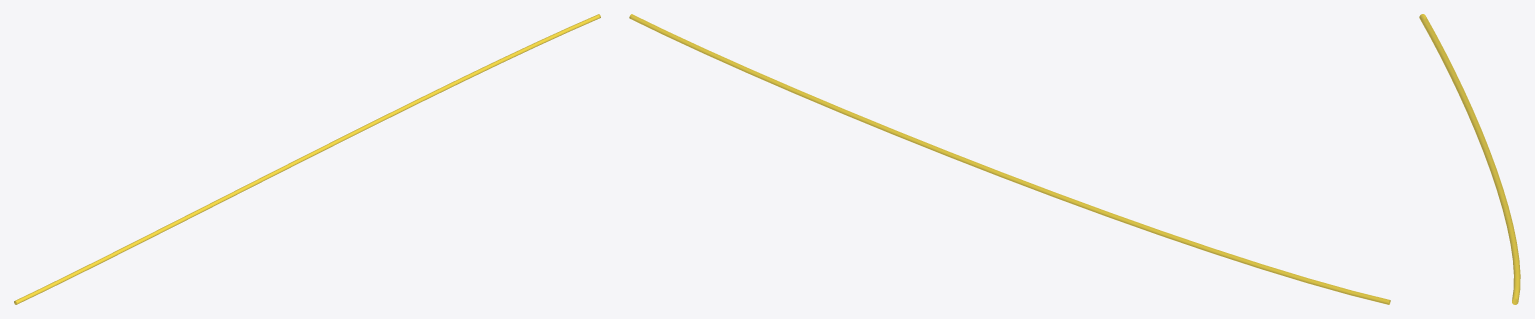
The model's file is Event_75125125_track_64.fbx.
The picture shows the model from 3 angles, left to right: view 1: azimuth 30°, elevation 25°; view 2: azimuth 150°, elevation 25°; view 3: azimuth 270°, elevation 25°; orthographic projection. The views are drawn at different scales.
Parts seen in each view (by area): view 1: Model; view 2: Model; view 3: Model.
Part boxes in pixels (x1=…): Model: x1=14, y1=14, x2=600, y2=304; Model: x1=629, y1=14, x2=1390, y2=304; Model: x1=1419, y1=14, x2=1520, y2=304.
Bounding box in the file's own units: 6.55 × 1.21 × 0.6056.
